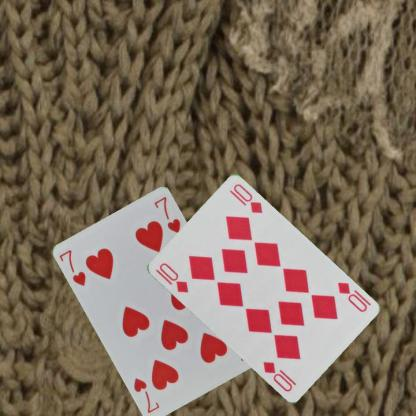10d: (152, 260, 190, 295), (335, 279, 368, 314)
7h: (56, 247, 88, 288)
